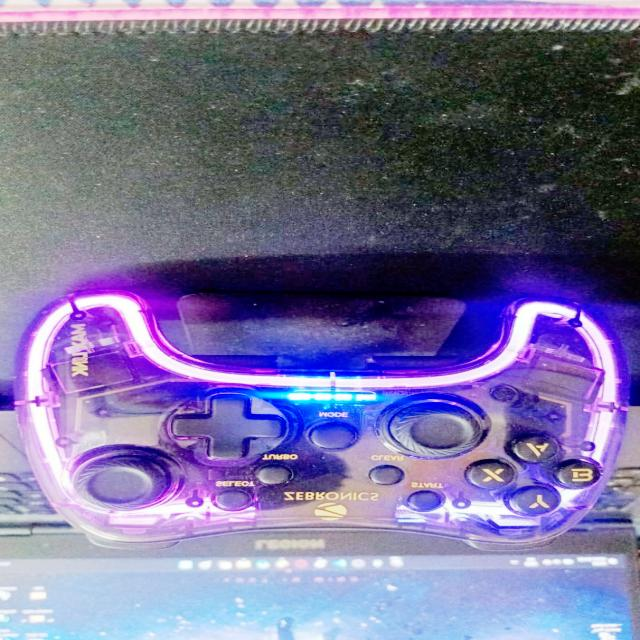gamepad: (12, 294, 626, 554)
